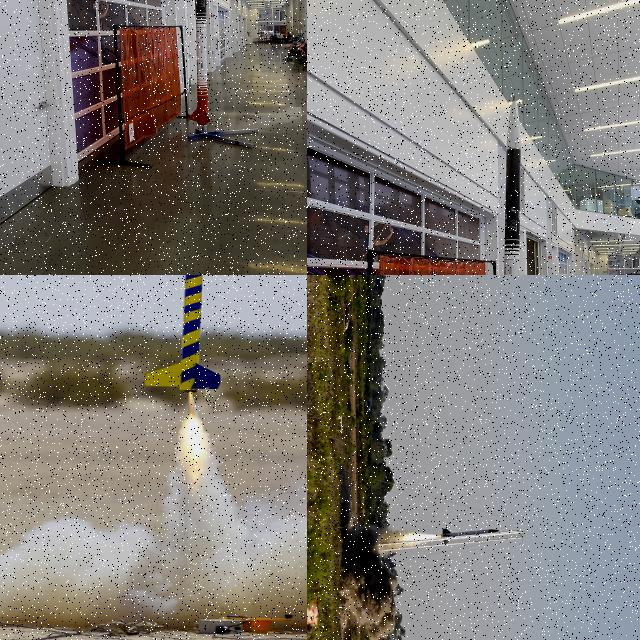Rocket: (141, 275, 222, 395), (504, 95, 521, 275), (190, 0, 210, 126), (441, 528, 500, 544)
